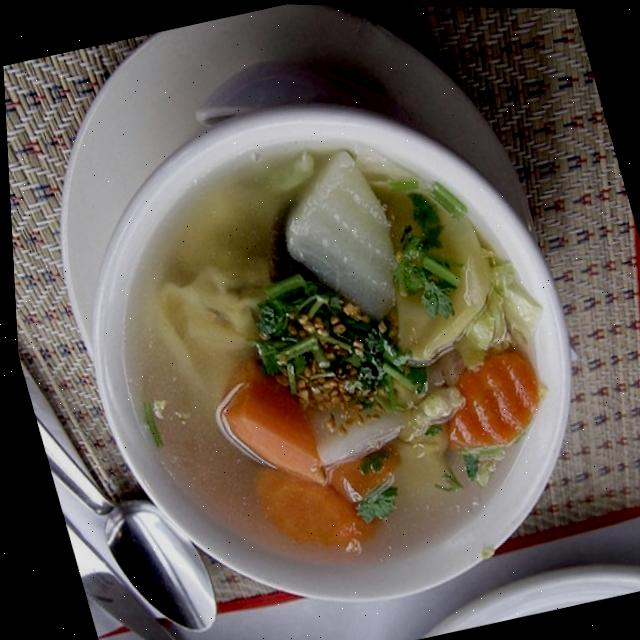汤锅炖物: (30, 63, 623, 639)
